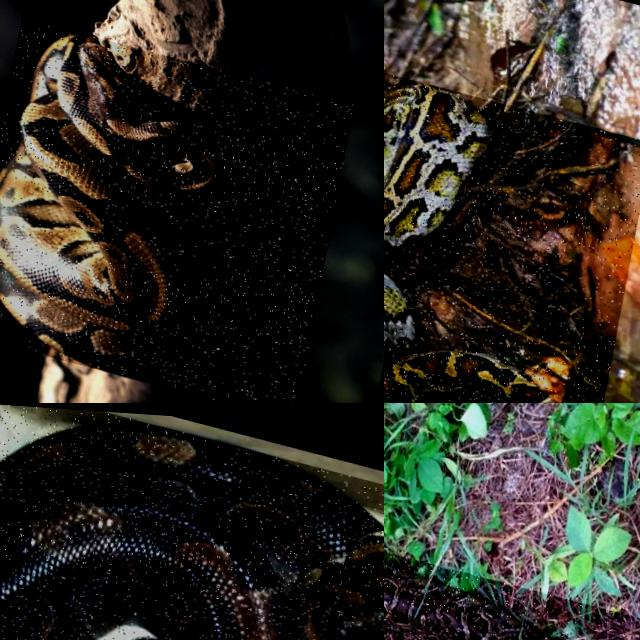Python bivittatus: (0, 35, 311, 385), (0, 424, 383, 639), (384, 273, 553, 402), (384, 564, 548, 639)
snake: (0, 35, 311, 385), (0, 424, 383, 639), (384, 273, 553, 402), (384, 564, 548, 639)
